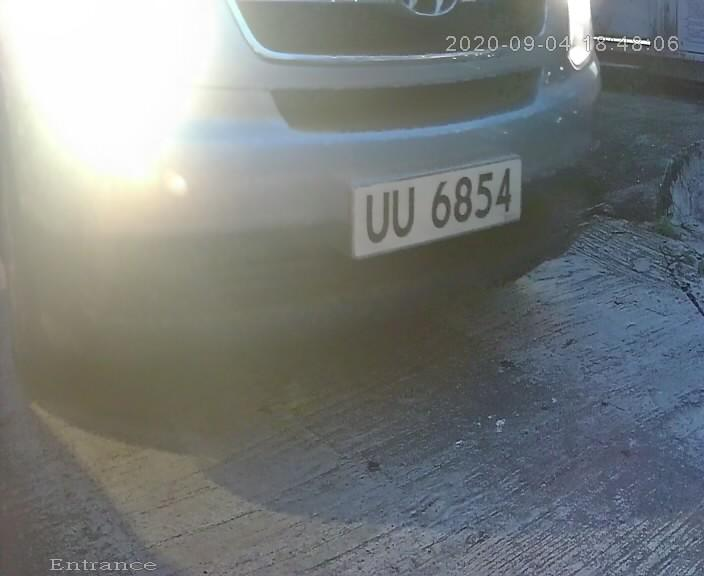License Plate: (332, 139, 537, 278)
